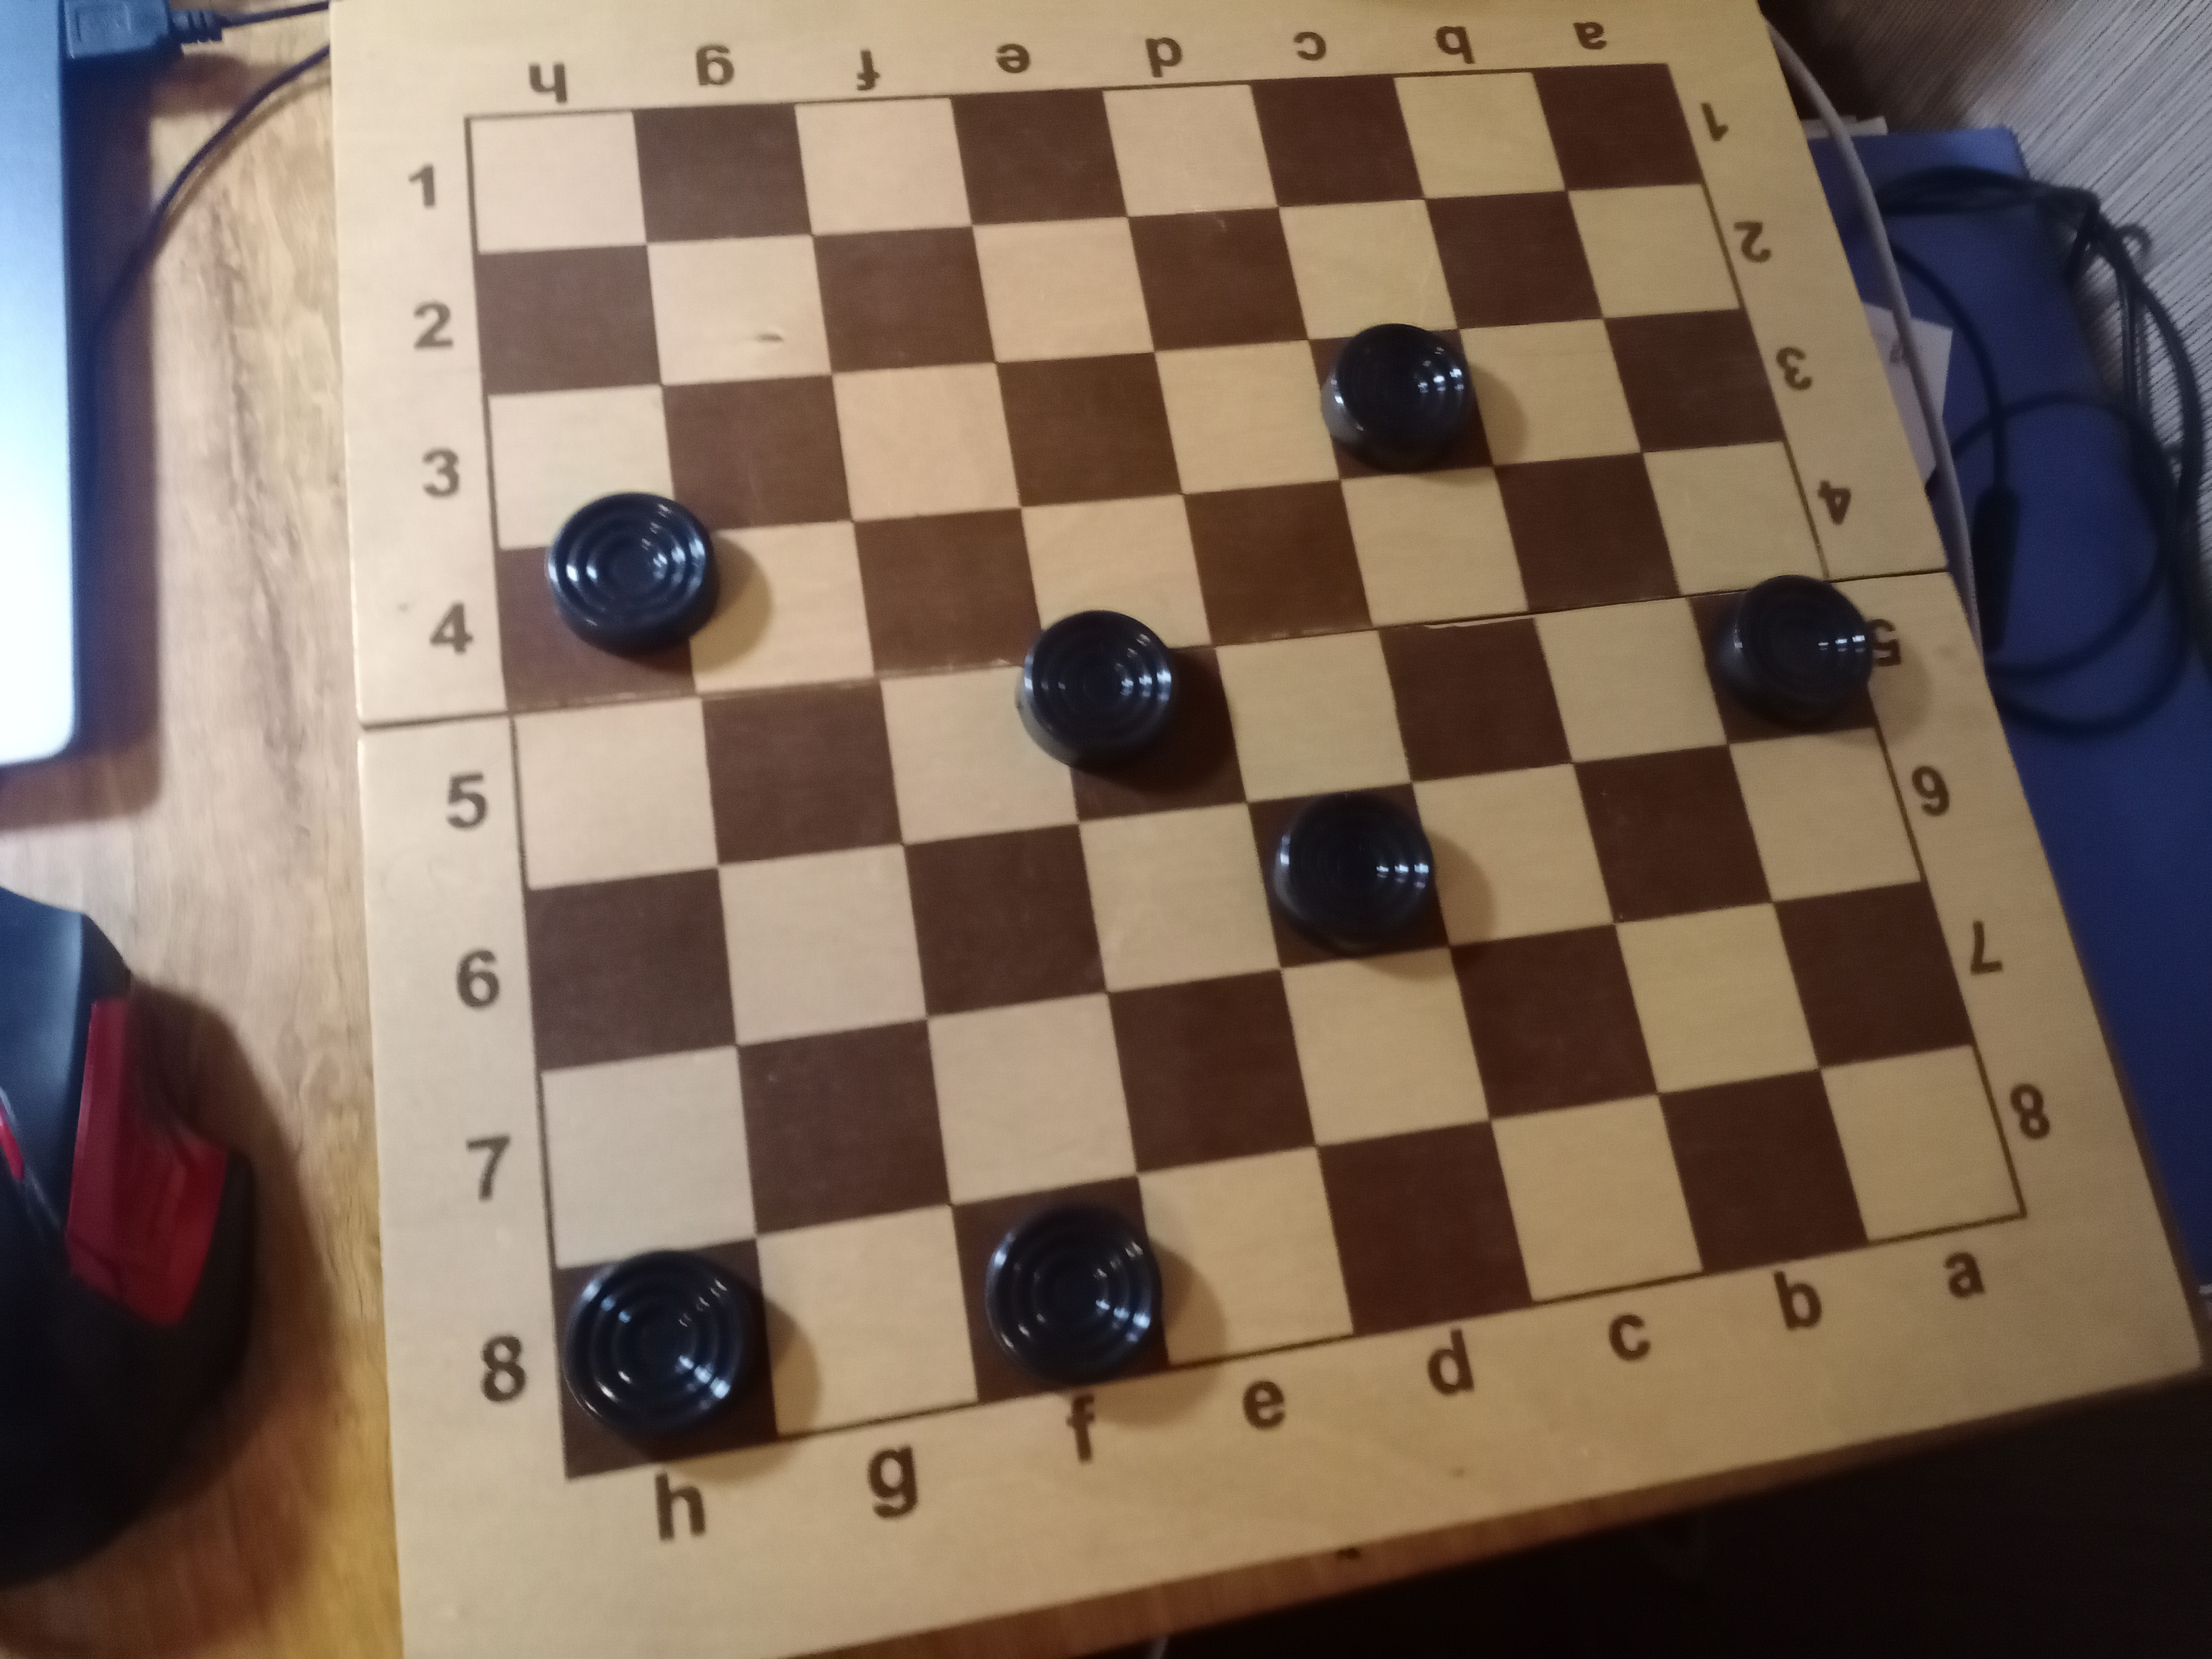Black_Draught: (552, 1237, 780, 1483), (496, 491, 719, 716), (949, 1178, 1170, 1403), (1017, 610, 1245, 823), (1247, 784, 1451, 972), (1686, 575, 1876, 746), (1308, 322, 1494, 483)
